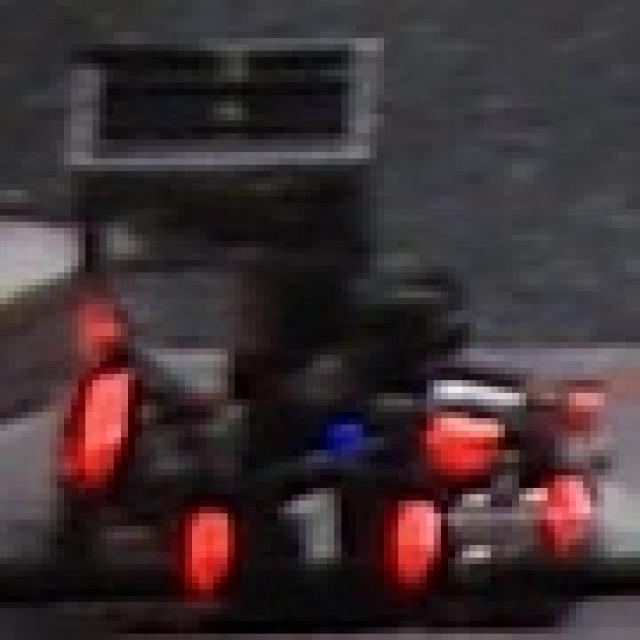R1: (178, 482, 434, 583)
